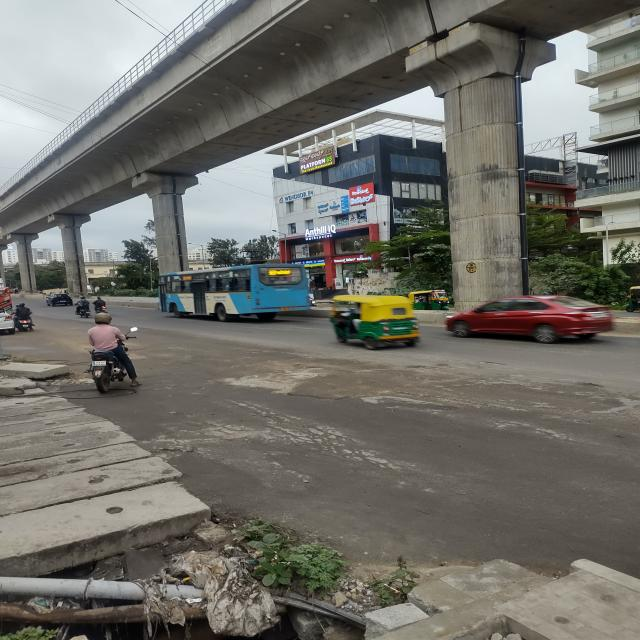bus: (157, 263, 314, 322)
display: (266, 268, 293, 276), (182, 275, 192, 280)
dnumber: (267, 269, 277, 275)
